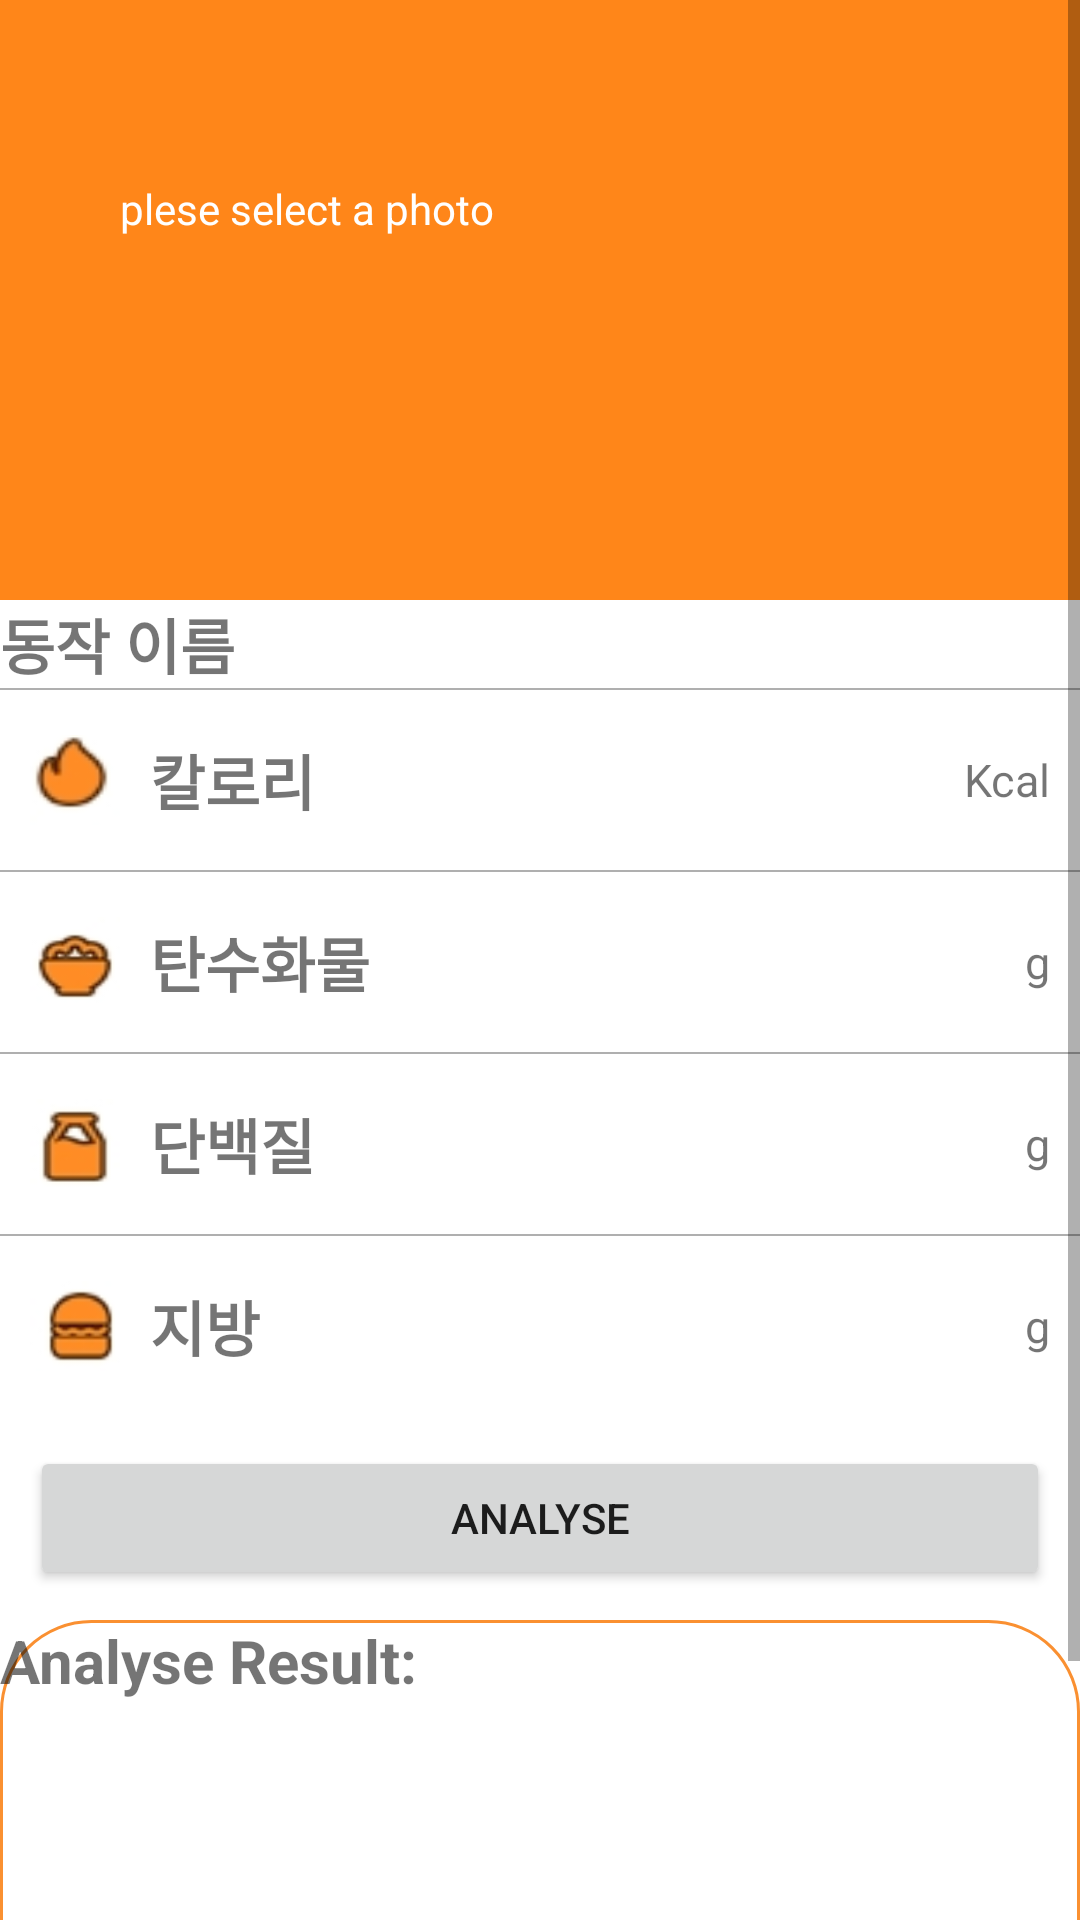

Named icons in this screenshot (1080w x 1920h) and their bounding boxes, (x1, y1, x2, y2):
hot: (36, 737, 108, 808)
